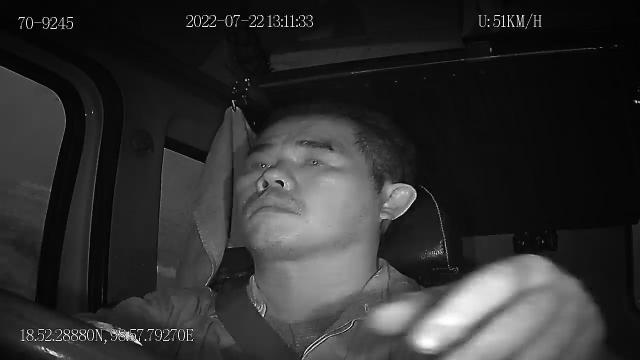SafeDriving: (294, 146, 336, 172)
Seatbelt: (212, 276, 304, 360)
